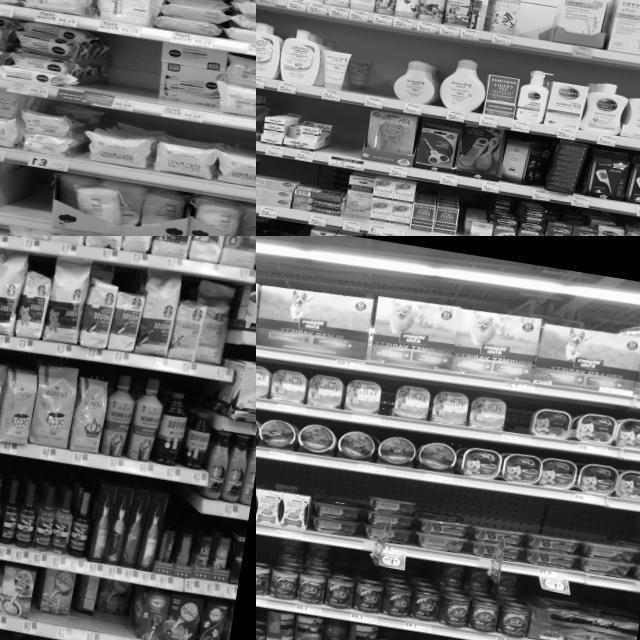Imprecise: (29, 571, 138, 637), (120, 185, 182, 227), (351, 50, 374, 93)
